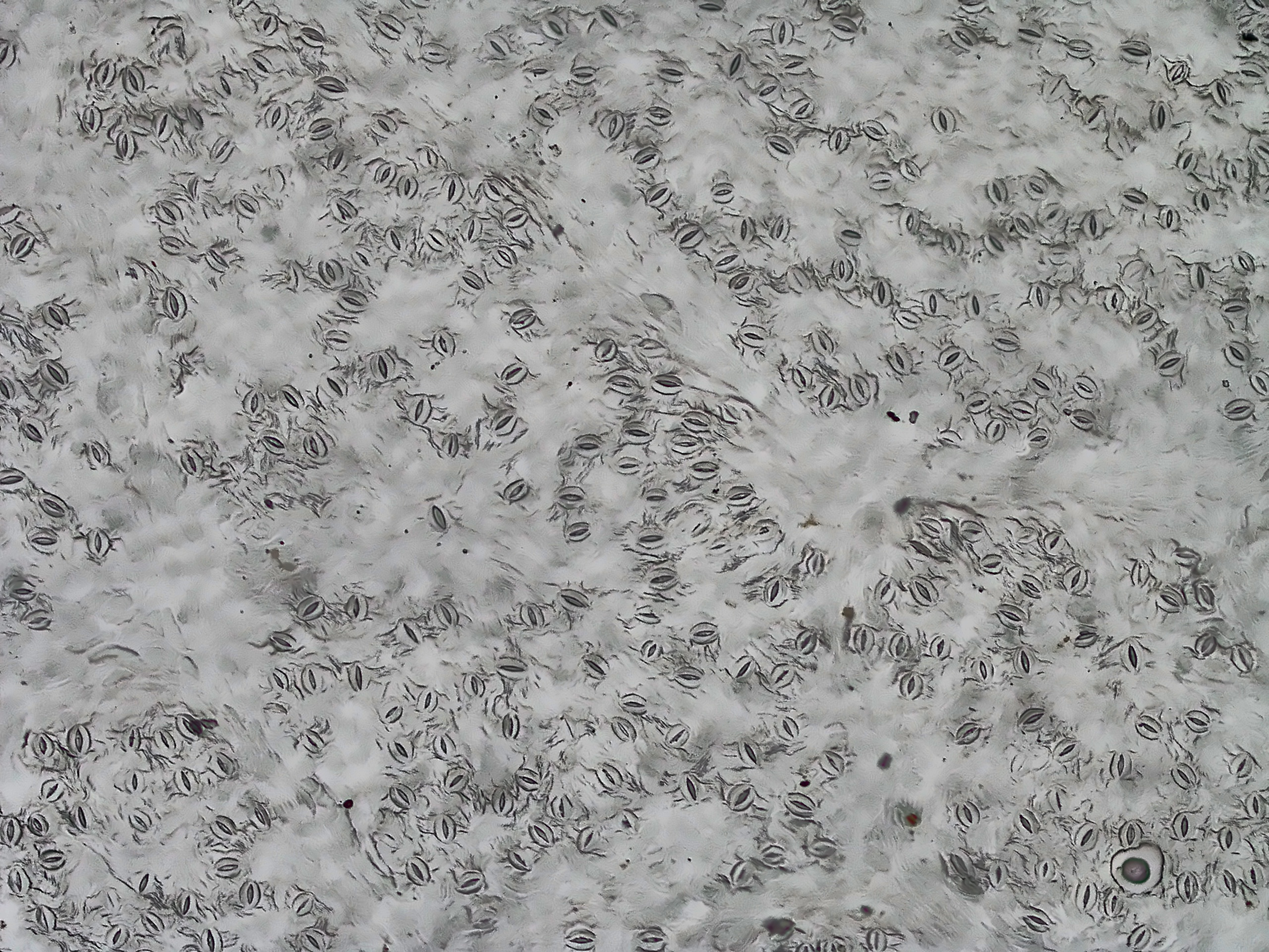stomata: (372, 779, 419, 814), (785, 784, 825, 825), (144, 99, 174, 152), (493, 650, 542, 682), (33, 352, 74, 390), (26, 722, 65, 760), (423, 590, 464, 626), (719, 45, 752, 89), (372, 3, 409, 42), (554, 920, 605, 948), (987, 598, 1041, 624), (416, 35, 458, 68), (262, 619, 304, 652), (592, 0, 630, 36), (1190, 572, 1222, 614), (202, 239, 238, 276), (937, 225, 974, 261), (260, 422, 298, 457), (590, 106, 624, 145), (288, 590, 338, 616), (121, 56, 156, 93), (570, 818, 605, 855), (22, 605, 56, 643), (636, 918, 676, 950), (553, 585, 600, 612), (1129, 713, 1171, 743), (572, 424, 604, 463), (685, 613, 725, 644), (579, 648, 614, 683), (406, 389, 437, 428), (1074, 617, 1105, 656), (563, 62, 606, 90), (740, 318, 775, 352), (909, 577, 945, 610), (8, 568, 40, 605), (86, 523, 115, 563), (752, 572, 788, 604), (766, 19, 802, 51), (1118, 815, 1150, 851), (729, 738, 766, 769), (603, 370, 647, 396), (327, 193, 365, 223), (168, 709, 206, 739), (1021, 173, 1059, 203), (764, 131, 806, 158), (216, 73, 250, 106), (726, 776, 760, 809), (1060, 562, 1095, 594), (288, 884, 319, 920), (560, 485, 596, 516), (1120, 640, 1150, 677), (370, 349, 399, 387), (398, 858, 432, 890), (543, 10, 574, 45), (501, 705, 531, 741), (670, 219, 708, 247), (1068, 817, 1100, 850), (832, 9, 863, 43), (892, 668, 926, 699), (183, 168, 213, 203), (175, 448, 210, 478), (805, 328, 840, 358), (769, 714, 804, 744), (166, 284, 195, 320), (955, 793, 984, 829), (832, 245, 858, 285), (0, 26, 22, 73), (990, 323, 1028, 350), (1019, 904, 1057, 931), (1192, 632, 1224, 664), (611, 712, 642, 745), (1045, 71, 1078, 102), (528, 51, 558, 85), (35, 300, 74, 326), (69, 797, 97, 833), (620, 419, 662, 443), (863, 171, 911, 192), (484, 246, 524, 271), (435, 320, 462, 357), (1231, 646, 1268, 673), (234, 189, 265, 221), (208, 749, 240, 780), (17, 414, 50, 444), (948, 849, 978, 882), (25, 529, 63, 555), (28, 849, 80, 868), (497, 359, 531, 388), (944, 22, 978, 51), (765, 663, 799, 692), (293, 661, 328, 689), (1167, 760, 1202, 788), (482, 38, 521, 63), (682, 766, 705, 808), (712, 245, 754, 268), (81, 441, 112, 472), (1016, 17, 1046, 49), (504, 840, 534, 872), (1039, 201, 1072, 230), (531, 97, 559, 131), (1130, 302, 1164, 330), (486, 409, 521, 436), (636, 527, 677, 550), (911, 509, 950, 533), (1211, 863, 1237, 899), (1168, 544, 1207, 568), (7, 230, 37, 261), (480, 168, 509, 200), (321, 375, 353, 404), (251, 801, 280, 833), (246, 54, 283, 79), (362, 115, 404, 137), (334, 291, 376, 313), (519, 598, 547, 631), (457, 267, 490, 295), (929, 102, 957, 135), (875, 575, 908, 603), (652, 375, 692, 398), (709, 534, 743, 561), (726, 654, 760, 681), (36, 493, 72, 518), (451, 868, 487, 893), (3, 865, 34, 894), (634, 597, 665, 626), (820, 742, 849, 773), (628, 638, 667, 661), (181, 97, 209, 129), (215, 852, 247, 880), (707, 179, 740, 206), (783, 52, 816, 79), (1156, 350, 1189, 377), (668, 717, 692, 754), (1124, 922, 1161, 946), (977, 549, 1011, 575), (674, 663, 708, 689), (998, 396, 1040, 417), (152, 194, 182, 223), (209, 814, 239, 843), (252, 9, 280, 40), (22, 802, 50, 833), (389, 735, 417, 766), (1043, 523, 1074, 551), (278, 383, 305, 415), (347, 585, 371, 621), (981, 224, 1008, 256), (1070, 376, 1109, 398), (960, 516, 993, 542), (1012, 571, 1045, 597), (888, 630, 914, 663), (1117, 40, 1154, 63), (92, 49, 117, 83), (645, 100, 679, 125), (791, 630, 825, 655), (1129, 555, 1154, 589), (953, 718, 982, 747), (115, 133, 139, 168), (1, 462, 29, 492), (172, 890, 202, 918), (511, 766, 546, 790), (736, 208, 760, 243), (1225, 747, 1255, 775), (614, 809, 645, 836), (802, 548, 829, 579), (307, 113, 339, 139), (429, 504, 461, 530), (1021, 428, 1057, 451), (297, 23, 330, 48), (303, 426, 328, 459), (38, 772, 63, 805), (395, 617, 423, 646), (504, 477, 532, 506), (1015, 809, 1044, 837), (105, 919, 132, 949), (434, 726, 461, 756), (657, 59, 687, 86), (1177, 146, 1204, 176), (158, 230, 189, 256), (487, 787, 513, 818), (936, 346, 971, 369), (1224, 152, 1247, 187), (129, 801, 154, 833), (441, 807, 461, 847), (1056, 282, 1088, 307), (852, 622, 877, 654), (68, 723, 89, 761), (744, 518, 786, 537), (734, 852, 753, 894), (528, 822, 561, 846), (981, 179, 1014, 203), (972, 656, 996, 689), (1014, 643, 1036, 679), (642, 180, 670, 208), (352, 251, 386, 274), (508, 307, 542, 330), (643, 483, 677, 506), (1177, 868, 1200, 902), (1035, 854, 1061, 884), (1185, 706, 1215, 732), (316, 78, 353, 99), (265, 671, 297, 695), (894, 341, 918, 373), (598, 759, 625, 787), (636, 141, 664, 168), (829, 225, 871, 243), (931, 632, 958, 660), (300, 726, 326, 755), (240, 388, 265, 418), (796, 94, 820, 125), (1080, 210, 1104, 241), (1063, 36, 1100, 56), (1007, 213, 1044, 233), (326, 324, 358, 347), (240, 877, 263, 909), (1030, 364, 1053, 396), (1211, 77, 1234, 109), (1116, 188, 1151, 209), (1051, 786, 1078, 813), (825, 129, 851, 157), (1189, 260, 1215, 288), (982, 862, 1008, 890), (133, 865, 155, 898), (860, 119, 893, 141), (1089, 95, 1111, 128), (377, 230, 406, 255), (898, 305, 923, 334), (1098, 281, 1123, 310), (758, 839, 787, 864), (323, 259, 347, 289), (0, 371, 20, 407), (1217, 820, 1241, 850), (1070, 406, 1101, 429), (378, 696, 410, 718), (444, 767, 471, 793), (981, 416, 1008, 442), (178, 767, 203, 795), (32, 907, 60, 932), (681, 411, 716, 431), (727, 267, 755, 292), (287, 260, 311, 289), (1225, 342, 1254, 366), (401, 167, 422, 200), (215, 133, 238, 163), (501, 207, 531, 230), (1121, 259, 1151, 282), (1173, 809, 1196, 839), (298, 927, 329, 949), (1195, 186, 1217, 217), (1015, 524, 1046, 546), (693, 457, 720, 482), (790, 363, 815, 390), (1031, 285, 1058, 310), (809, 827, 836, 852), (1158, 587, 1185, 612), (768, 214, 796, 238), (899, 156, 927, 180), (425, 229, 454, 252), (270, 96, 289, 131), (692, 0, 736, 15), (1224, 297, 1254, 319), (440, 430, 461, 461), (1246, 861, 1267, 892), (118, 725, 143, 751), (1109, 747, 1134, 773), (872, 273, 891, 307), (621, 687, 649, 710), (1159, 204, 1181, 233), (331, 145, 349, 180), (465, 667, 486, 697), (1224, 399, 1261, 416), (596, 338, 621, 363), (0, 201, 26, 225), (415, 684, 441, 708), (1152, 99, 1172, 130), (417, 142, 439, 170), (153, 724, 175, 752), (561, 522, 597, 539), (1236, 61, 1265, 82), (1248, 372, 1269, 401), (1246, 793, 1267, 822), (649, 564, 679, 584), (953, 0, 993, 15), (82, 104, 104, 131), (356, 654, 374, 687), (614, 455, 647, 473), (855, 371, 873, 404), (1103, 887, 1125, 914), (444, 174, 463, 205), (376, 160, 396, 189), (143, 908, 166, 933), (1236, 249, 1258, 275), (119, 771, 147, 791), (100, 887, 125, 909), (675, 435, 709, 451), (763, 76, 783, 103), (2, 818, 21, 846), (865, 924, 888, 947), (549, 794, 573, 816), (725, 482, 756, 499), (204, 925, 225, 950), (1049, 242, 1078, 260), (1019, 708, 1051, 724), (786, 264, 809, 286), (463, 219, 484, 243), (1168, 60, 1190, 81), (966, 292, 985, 316), (1057, 737, 1085, 753), (1079, 879, 1095, 905), (971, 383, 988, 407), (920, 295, 942, 313), (799, 931, 817, 952), (825, 932, 846, 950), (905, 205, 917, 235), (825, 388, 839, 408)
